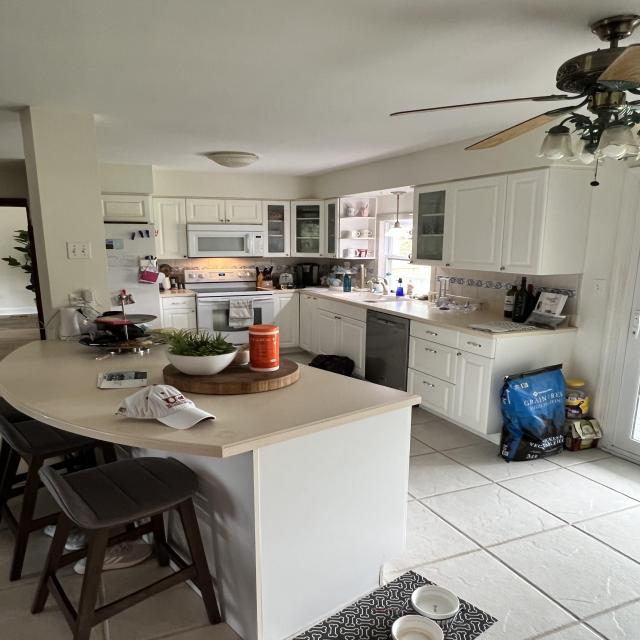Appliance_Dishwasher: (365, 308, 411, 392)
Appliance_Fridge: (105, 223, 161, 329)
Appliance_Microwave: (186, 222, 269, 259)
Appliance_Oven: (184, 269, 273, 344)
Appliance_Sink: (366, 270, 390, 295)
Cabinet_Flat: (410, 321, 494, 357), (160, 296, 196, 310)
Cabinet_Glass: (264, 198, 339, 258), (410, 187, 446, 266)
Cabinet_Raised_Panel: (442, 169, 550, 274), (102, 196, 264, 259), (272, 291, 366, 378), (409, 338, 492, 434), (159, 307, 197, 328)
Countertop_Solid_Surface: (0, 341, 413, 458), (291, 288, 505, 328)
